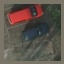car: (6, 6, 41, 23), (21, 26, 50, 40)
